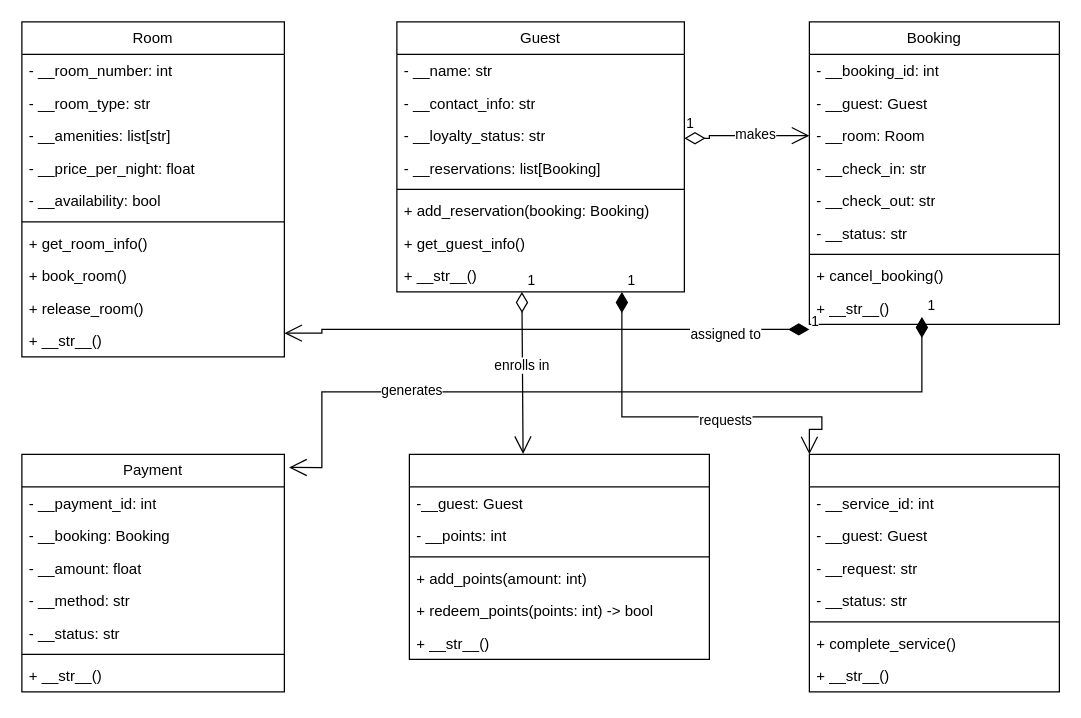
The diagram is 1081 pixels wide and 718 high, and some of its shapes have lost their labels. The shapes that lost their labels are listed below. From the top down, each one's box as (x1, y1, x2, y2) in pixels, then its label:
(408, 453, 709, 659): LoyaltyProgram
(808, 453, 1059, 692): HotelServices
